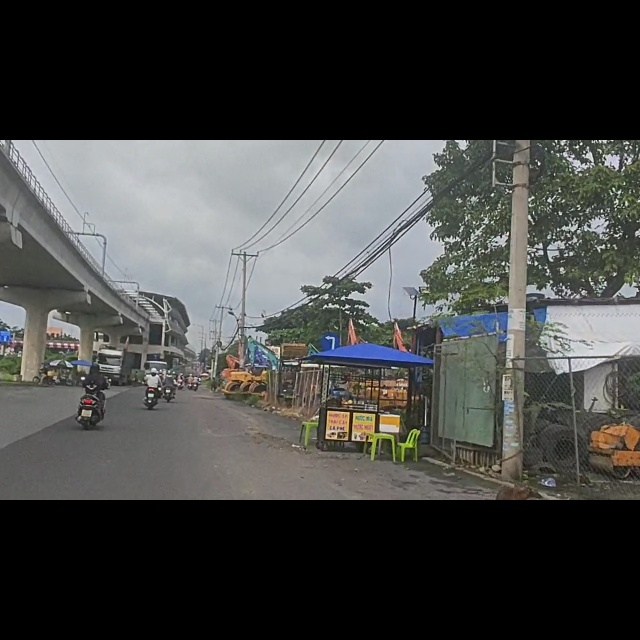bien_chi_dan: (321, 344, 339, 377)
